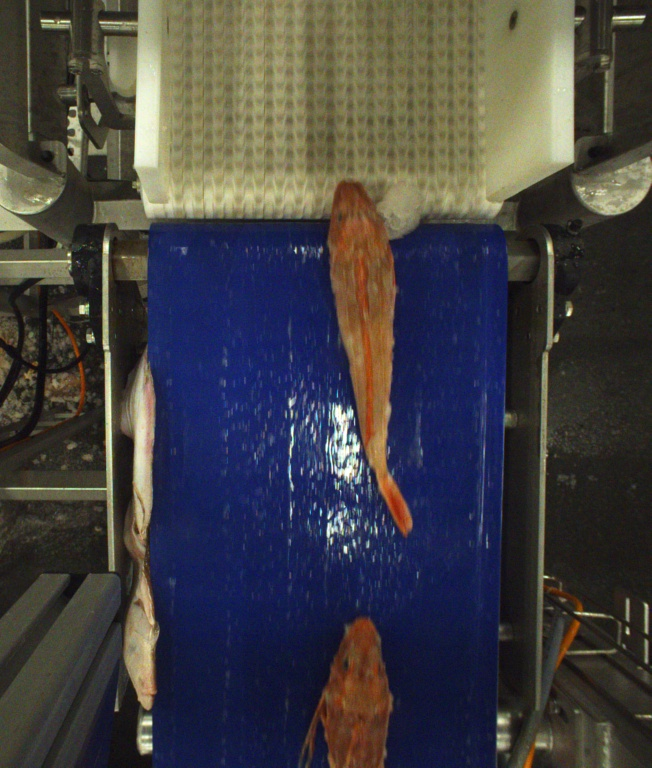GUU: (325, 179, 419, 536)
